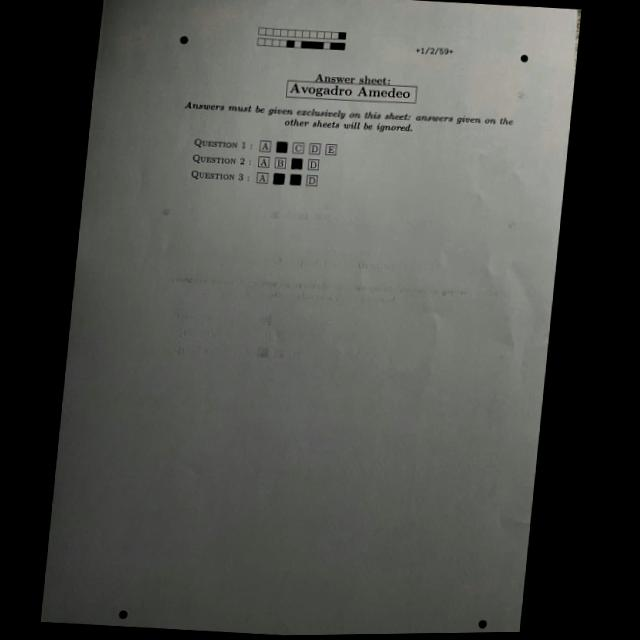Markers: (118, 608, 128, 619), (519, 54, 529, 63), (477, 619, 486, 629), (179, 35, 188, 44)
